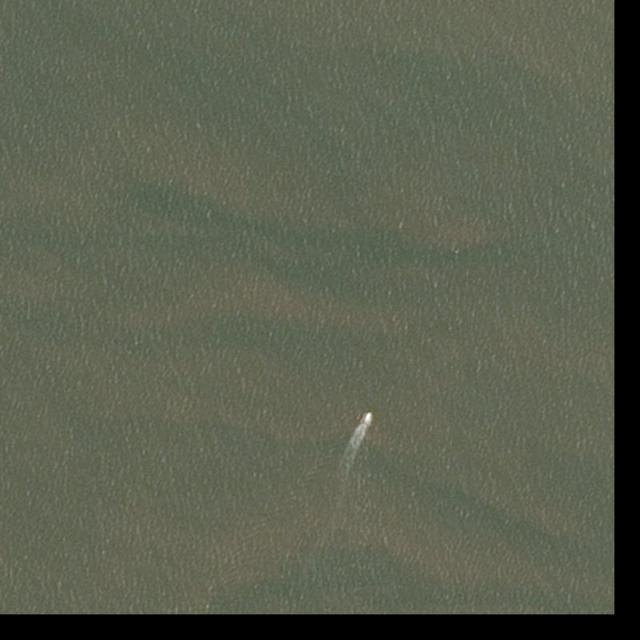ship: (362, 410, 374, 424)
